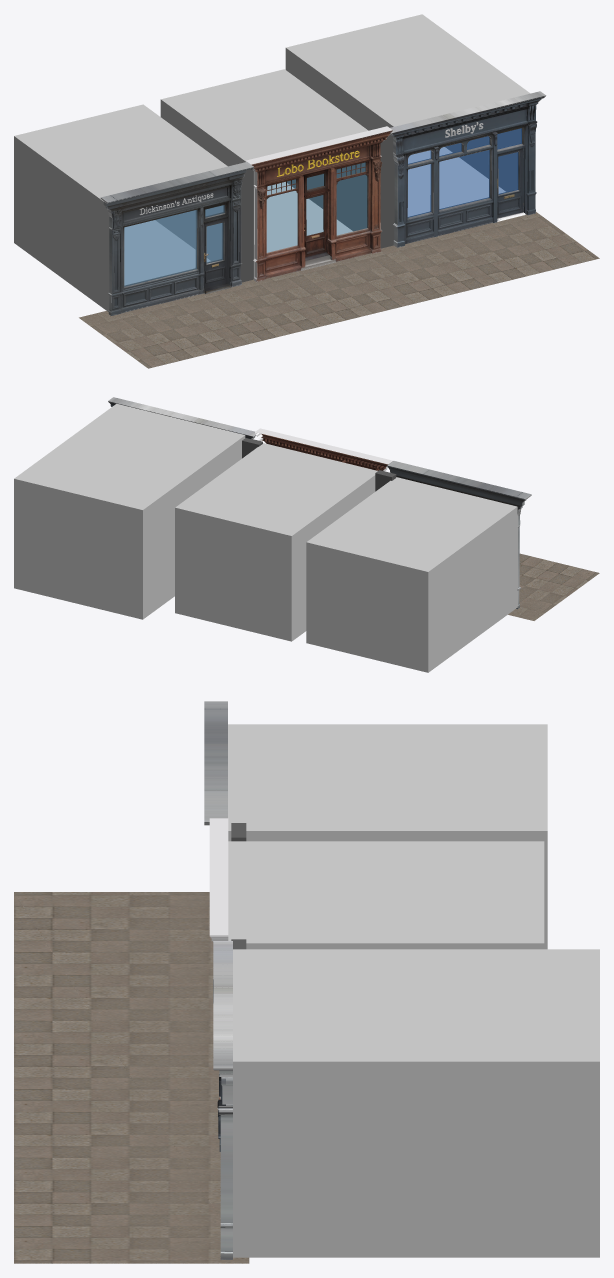
The model's file is storefronts_with_opening_doors_empty_stores.glb.
3 renders of one model, top to bottom at view 1: azimuth 30°, elevation 25°; view 2: azimuth 150°, elevation 25°; view 3: azimuth 270°, elevation 25°, orthographic. The views are drawn at different scales.
Visible parts, largest first — view 1: Plane, Inside.001, Inside.002, Inside, Storefront1, Storefront3, Storefront2 by Jungle Jim, Door.001, Door.002, Cube, Door, Cube.001; view 2: Inside.001, Inside.002, Inside, Plane, Storefront3, Storefront2 by Jungle Jim, Storefront1; view 3: Inside.002, Plane, Inside.001, Inside, Storefront1, Storefront3, Storefront2 by Jungle Jim.
Boxes of the visible parts, x1,y1,x2,y2 form: Plane: (79, 212, 599, 368); Inside.001: (14, 104, 227, 311); Inside.002: (285, 14, 530, 216); Inside: (160, 69, 368, 279); Storefront1: (390, 91, 546, 247); Storefront3: (100, 162, 254, 315); Storefront2 by Jungle Jim: (246, 126, 392, 281); Door.001: (497, 148, 523, 218); Door.002: (203, 217, 227, 289); Cube: (380, 127, 394, 248); Door: (304, 192, 327, 258); Cube.001: (240, 169, 253, 282); Inside.001: (306, 477, 518, 672); Inside.002: (14, 403, 245, 619); Inside: (175, 443, 377, 641); Plane: (508, 553, 599, 620); Storefront3: (387, 461, 531, 609); Storefront2 by Jungle Jim: (254, 428, 392, 471); Storefront1: (108, 397, 256, 439); Inside.002: (233, 949, 599, 1257); Plane: (14, 892, 249, 1263); Inside.001: (228, 724, 547, 949); Inside: (228, 841, 544, 949); Storefront1: (213, 941, 232, 1259); Storefront3: (204, 701, 227, 1003); Storefront2 by Jungle Jim: (209, 818, 228, 1099).
Bounding box in the file's own units: 32.92 × 8.42 × 21.68.
Materials: 10 (4 with a texture image).
